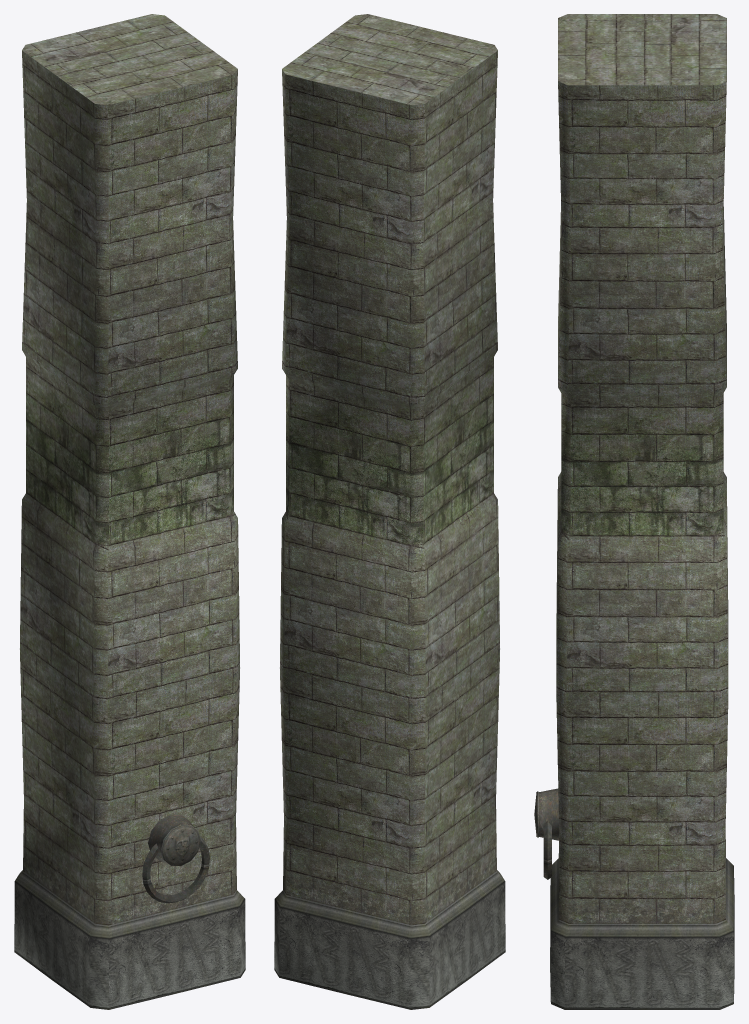
Rendered from Pilar.fbx.
The picture shows the model from 3 angles, left to right: view 1: azimuth 30°, elevation 25°; view 2: azimuth 150°, elevation 25°; view 3: azimuth 270°, elevation 25°; orthographic projection. The views are drawn at different scales.
Parts seen in each view (by area): view 1: Mesh Object; view 2: Mesh Object; view 3: Mesh Object.
Part boxes in pixels (x1,y1,x2,y2): Mesh Object: (14, 14, 245, 1009); Mesh Object: (274, 14, 505, 1009); Mesh Object: (534, 14, 734, 1009).
Size of the model in its own units: 1.09 by 6.05 by 1.19.
